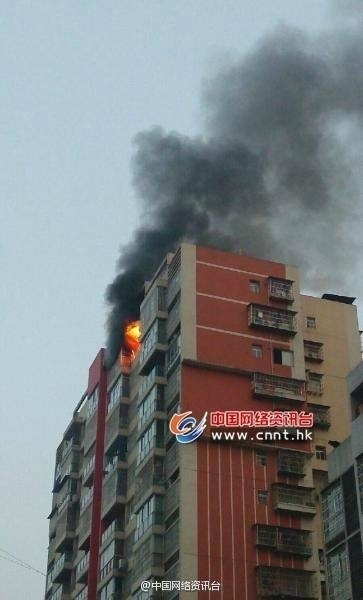fire: (121, 318, 144, 362)
